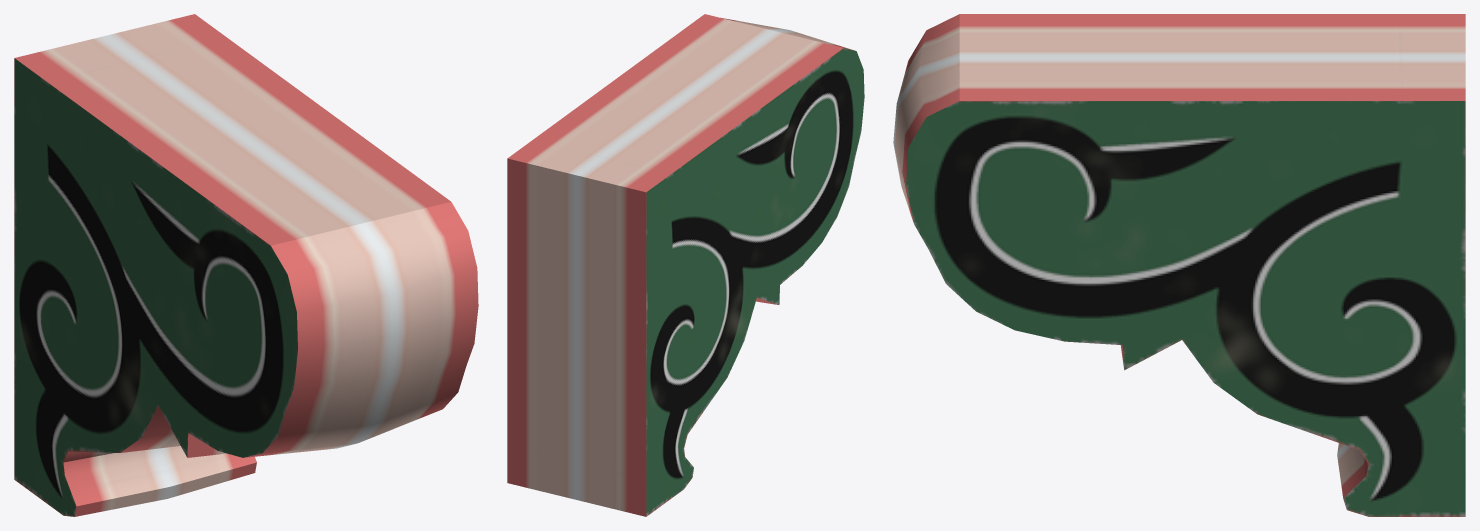
Rendered from SM_CGJ_Gongpo04d.fbx.
3 renders of one model, left to right at view 1: azimuth 30°, elevation 25°; view 2: azimuth 150°, elevation 25°; view 3: azimuth 270°, elevation 25°, orthographic. The views are drawn at different scales.
Visible parts, largest first — view 1: SM_CGJ_Gongpo04d; view 2: SM_CGJ_Gongpo04d; view 3: SM_CGJ_Gongpo04d.
Part boxes in pixels (x1=…): SM_CGJ_Gongpo04d: x1=14, y1=14, x2=478, y2=516; SM_CGJ_Gongpo04d: x1=507, y1=14, x2=864, y2=516; SM_CGJ_Gongpo04d: x1=893, y1=14, x2=1465, y2=516.
Size of the model in its own units: 11.17 by 31.11 by 24.95.
Materials: 1 (1 with a texture image).
